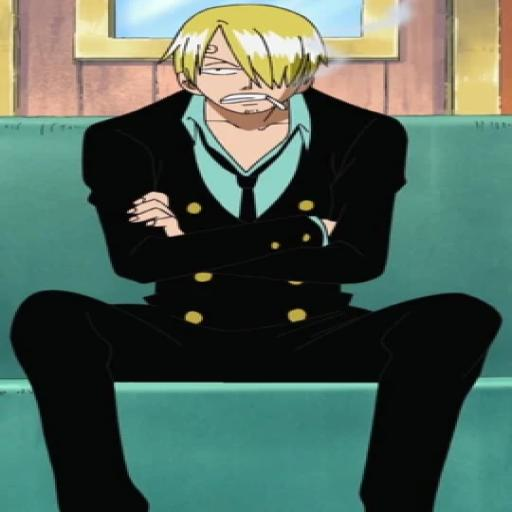sanji: (49, 0, 442, 512)
